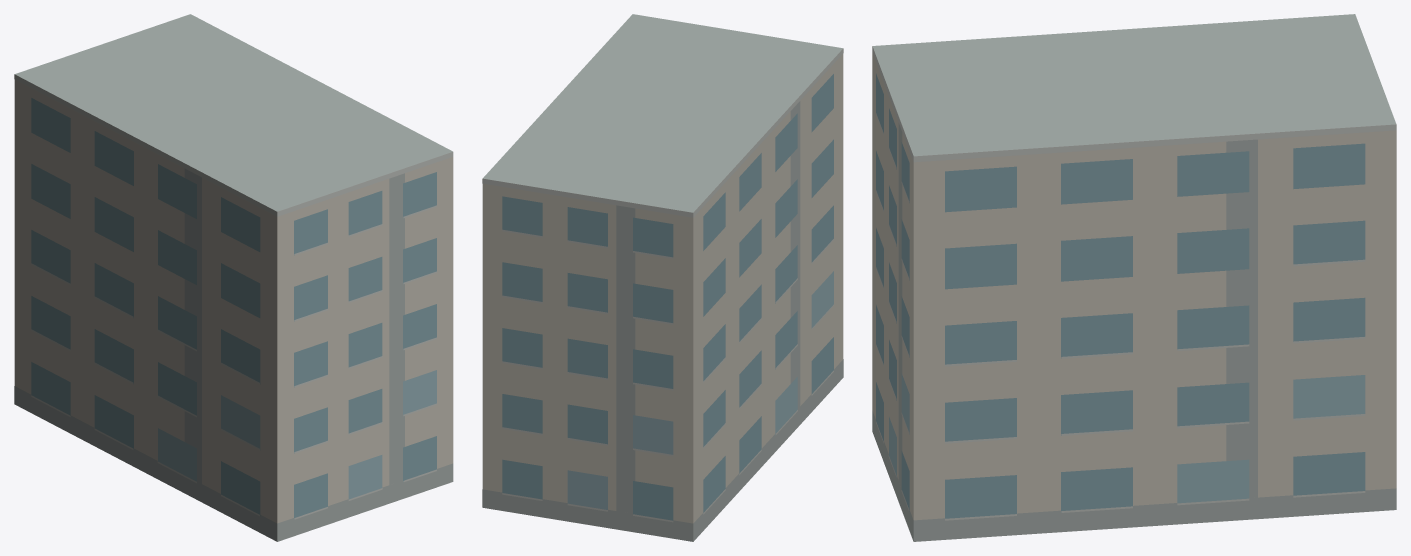
Rendered from survey-upis-32768812.glb.
The picture shows the model from 3 angles, left to right: view 1: azimuth 30°, elevation 25°; view 2: azimuth 150°, elevation 25°; view 3: azimuth 270°, elevation 25°; orthographic projection. The views are drawn at different scales.
Visible parts, largest first — view 1: survey-upis-32768812.tmp; view 2: survey-upis-32768812.tmp; view 3: survey-upis-32768812.tmp.
Boxes of the visible parts, left/top/right/bottom form: survey-upis-32768812.tmp: left=14, top=14, right=453, bottom=541; survey-upis-32768812.tmp: left=482, top=14, right=843, bottom=541; survey-upis-32768812.tmp: left=872, top=14, right=1396, bottom=541.
Bounding box in the file's own units: 12.6 × 15.9 × 19.6.
